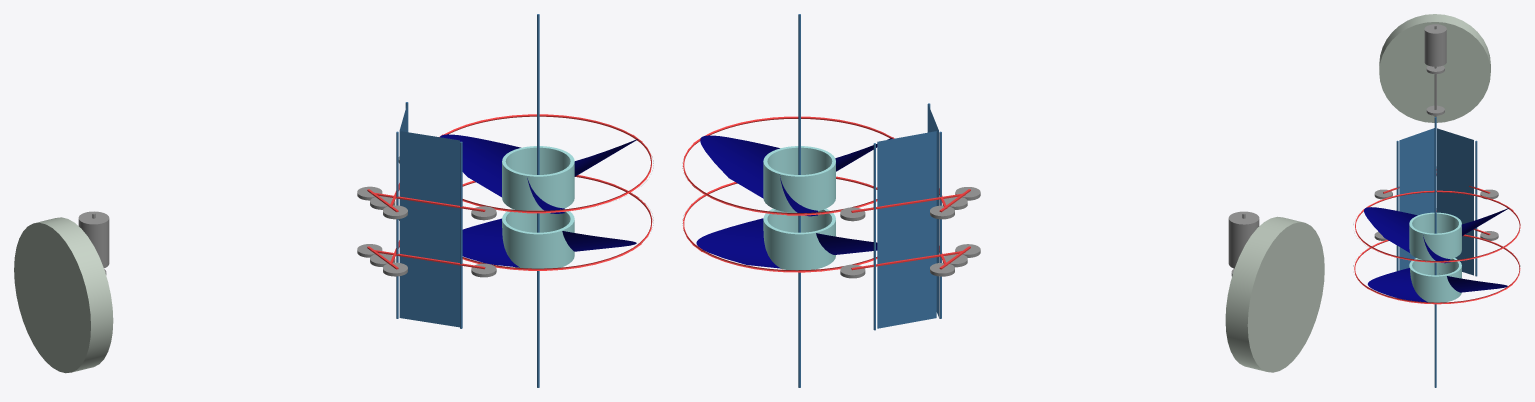
The model's file is Noblimp.gltf.
3 renders of one model, left to right at view 1: azimuth 30°, elevation 25°; view 2: azimuth 150°, elevation 25°; view 3: azimuth 270°, elevation 25°, orthographic. The views are drawn at different scales.
Visible parts, largest first — view 1: Object54, Object154, Object122, Object13, Object12, Object2, Object46, Object3, Object9, Object94; view 2: Object54, Object159, Object122, Object13, Object8, Object4, Object46, Object2, Object154, Object10, Object153; view 3: Object54, Object159, Object154, Object122, Object13, Object11, Object3, Object46, Object4, Object153, Object151, Object5 (+8 smaller).
Boxes of the visible parts, x1,y1,x2,y2 form: Object54: (14,217,113,373); Object154: (399,131,459,327); Object122: (502,146,574,210); Object13: (502,208,574,268); Object12: (440,134,520,197); Object2: (462,218,519,267); Object46: (78,211,109,268); Object3: (562,231,636,251); Object9: (443,114,642,142); Object94: (460,141,462,328); Object54: (1225,216,1324,372); Object159: (877,131,936,328); Object122: (763,146,835,212); Object13: (763,208,835,270); Object8: (700,135,779,198); Object4: (696,218,780,268); Object46: (1228,211,1259,268); Object2: (816,233,877,254); Object154: (928,104,938,316); Object10: (693,116,893,143); Object153: (873,143,875,330); Object54: (1379,14,1490,122); Object159: (1437,128,1473,275); Object154: (1399,128,1434,270); Object122: (1409,212,1461,260); Object13: (1409,258,1461,302); Object11: (1364,207,1417,252); Object3: (1367,268,1427,302); Object46: (1424,24,1446,66); Object4: (1447,276,1507,292); Object153: (1475,140,1477,276); Object151: (1434,117,1436,233); Object5: (1362,283,1512,304).
Size of the model in its own units: 5.28 by 3.21 by 1.8.
